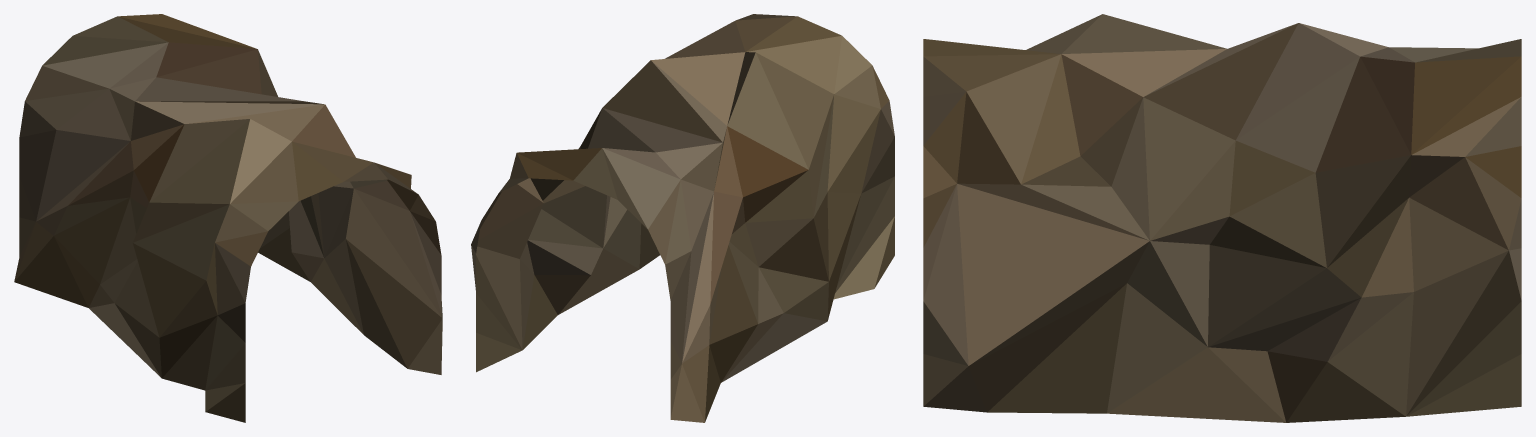
File: Cave-Hall10mD.fbx
3 renders of one model, left to right at view 1: azimuth 30°, elevation 25°; view 2: azimuth 150°, elevation 25°; view 3: azimuth 270°, elevation 25°, orthographic. The views are drawn at different scales.
Visible parts, largest first — view 1: Cave-Hall10mD; view 2: Cave-Hall10mD; view 3: Cave-Hall10mD.
Part boxes in pixels (box(x1,y1,x2,y2)): Cave-Hall10mD: box(14, 14, 442, 422); Cave-Hall10mD: box(471, 14, 894, 422); Cave-Hall10mD: box(923, 14, 1521, 422).
Size of the model in its own units: 598 by 601 by 1000.
